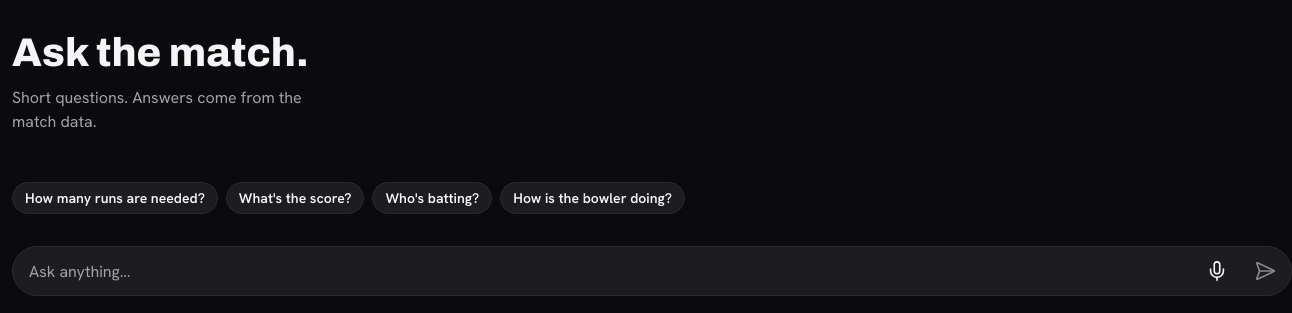
Test: AskTab › recovers from an error via Retry
Click the button "How many runs are needed?" at {"x": 115, "y": 198}, box [12,182,218,214]
Wait 1300 ms
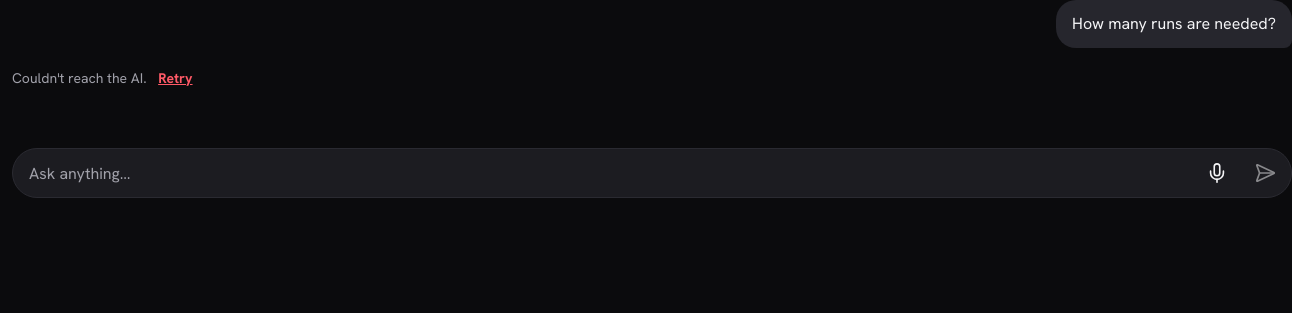
Now the message shows "Couldn't reach the AI.", box [12,69,146,87]
Click the button "Retry" at {"x": 175, "y": 78}, box [150,56,200,100]
Wait 1300 ms
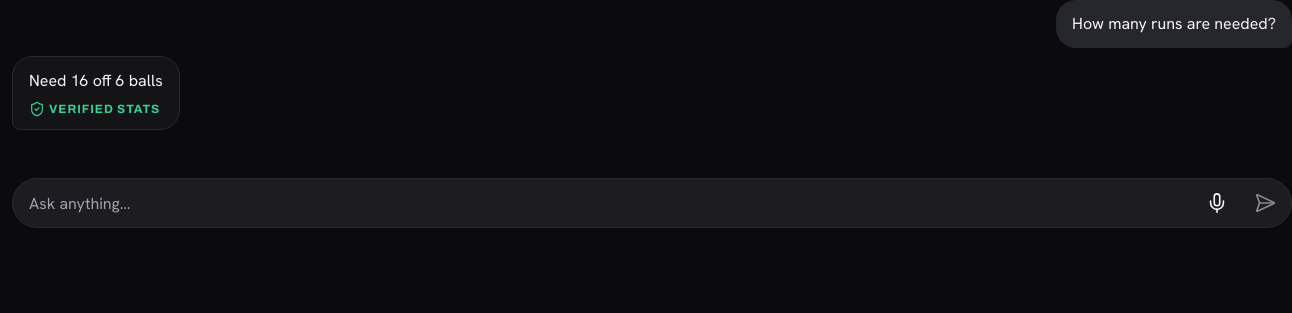
Now the text "Need 16 off 6 balls" is shown, box [29,69,163,93]
